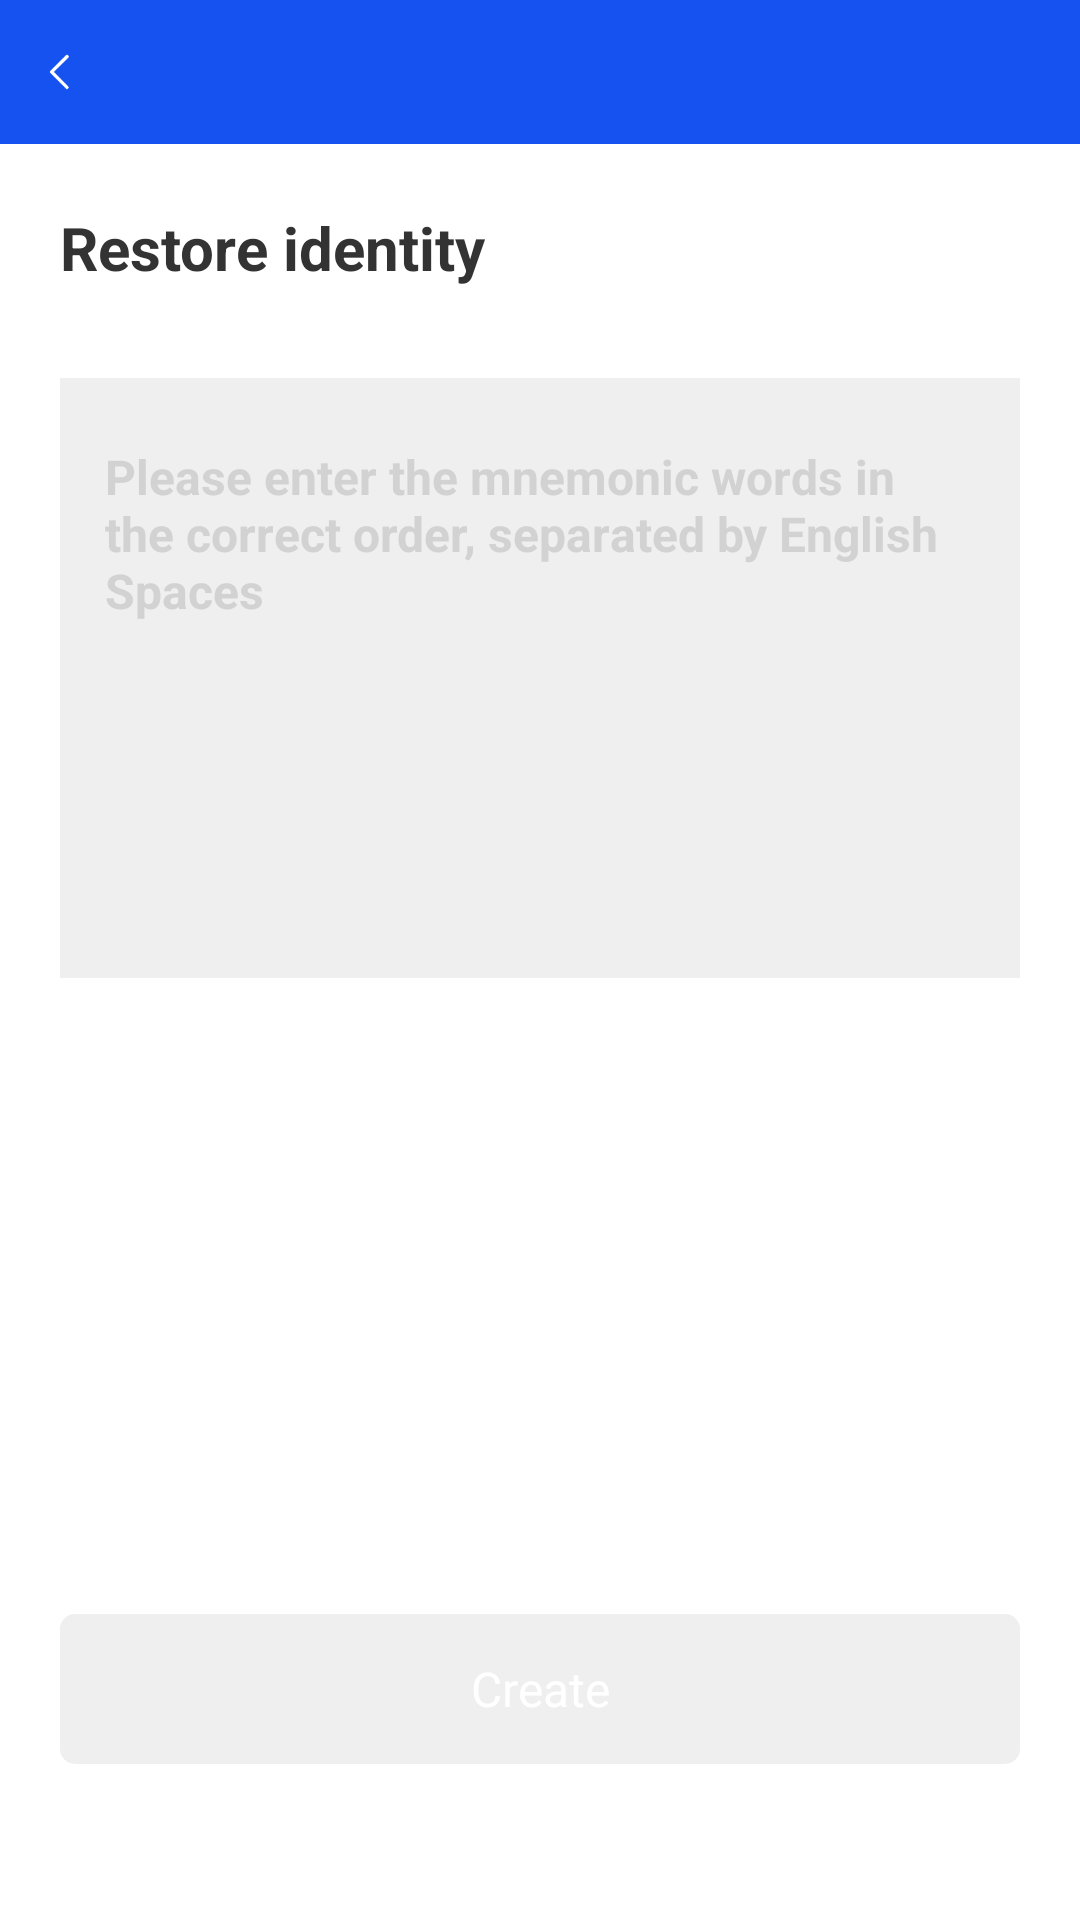

Where icons sit on this 1080×1920 app screen, as (x1, y1, x2, y2):
back: (50, 54, 69, 89)
